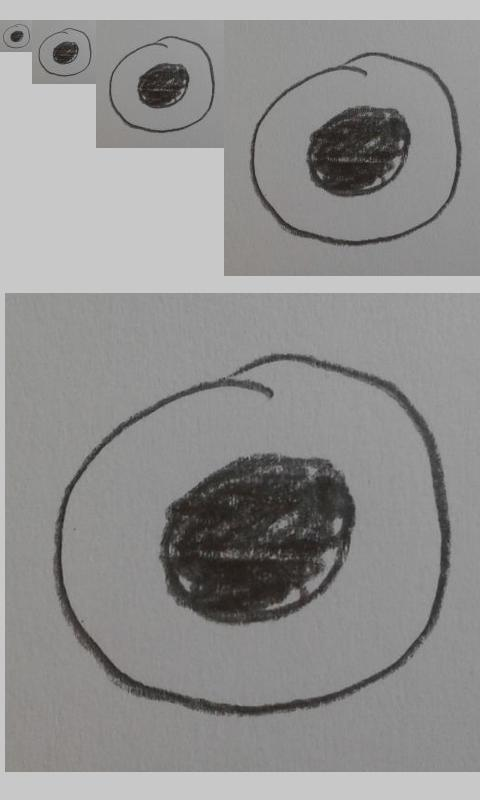radio_button: (49, 350, 455, 717), (247, 50, 463, 247), (106, 33, 216, 135), (36, 26, 93, 78), (2, 22, 31, 49)
